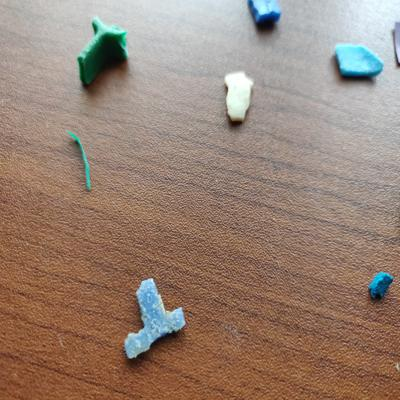plastic: (121, 276, 190, 361), (71, 12, 134, 90), (218, 63, 261, 124), (60, 128, 97, 196), (328, 40, 384, 82), (248, 1, 287, 31), (363, 271, 398, 302)
